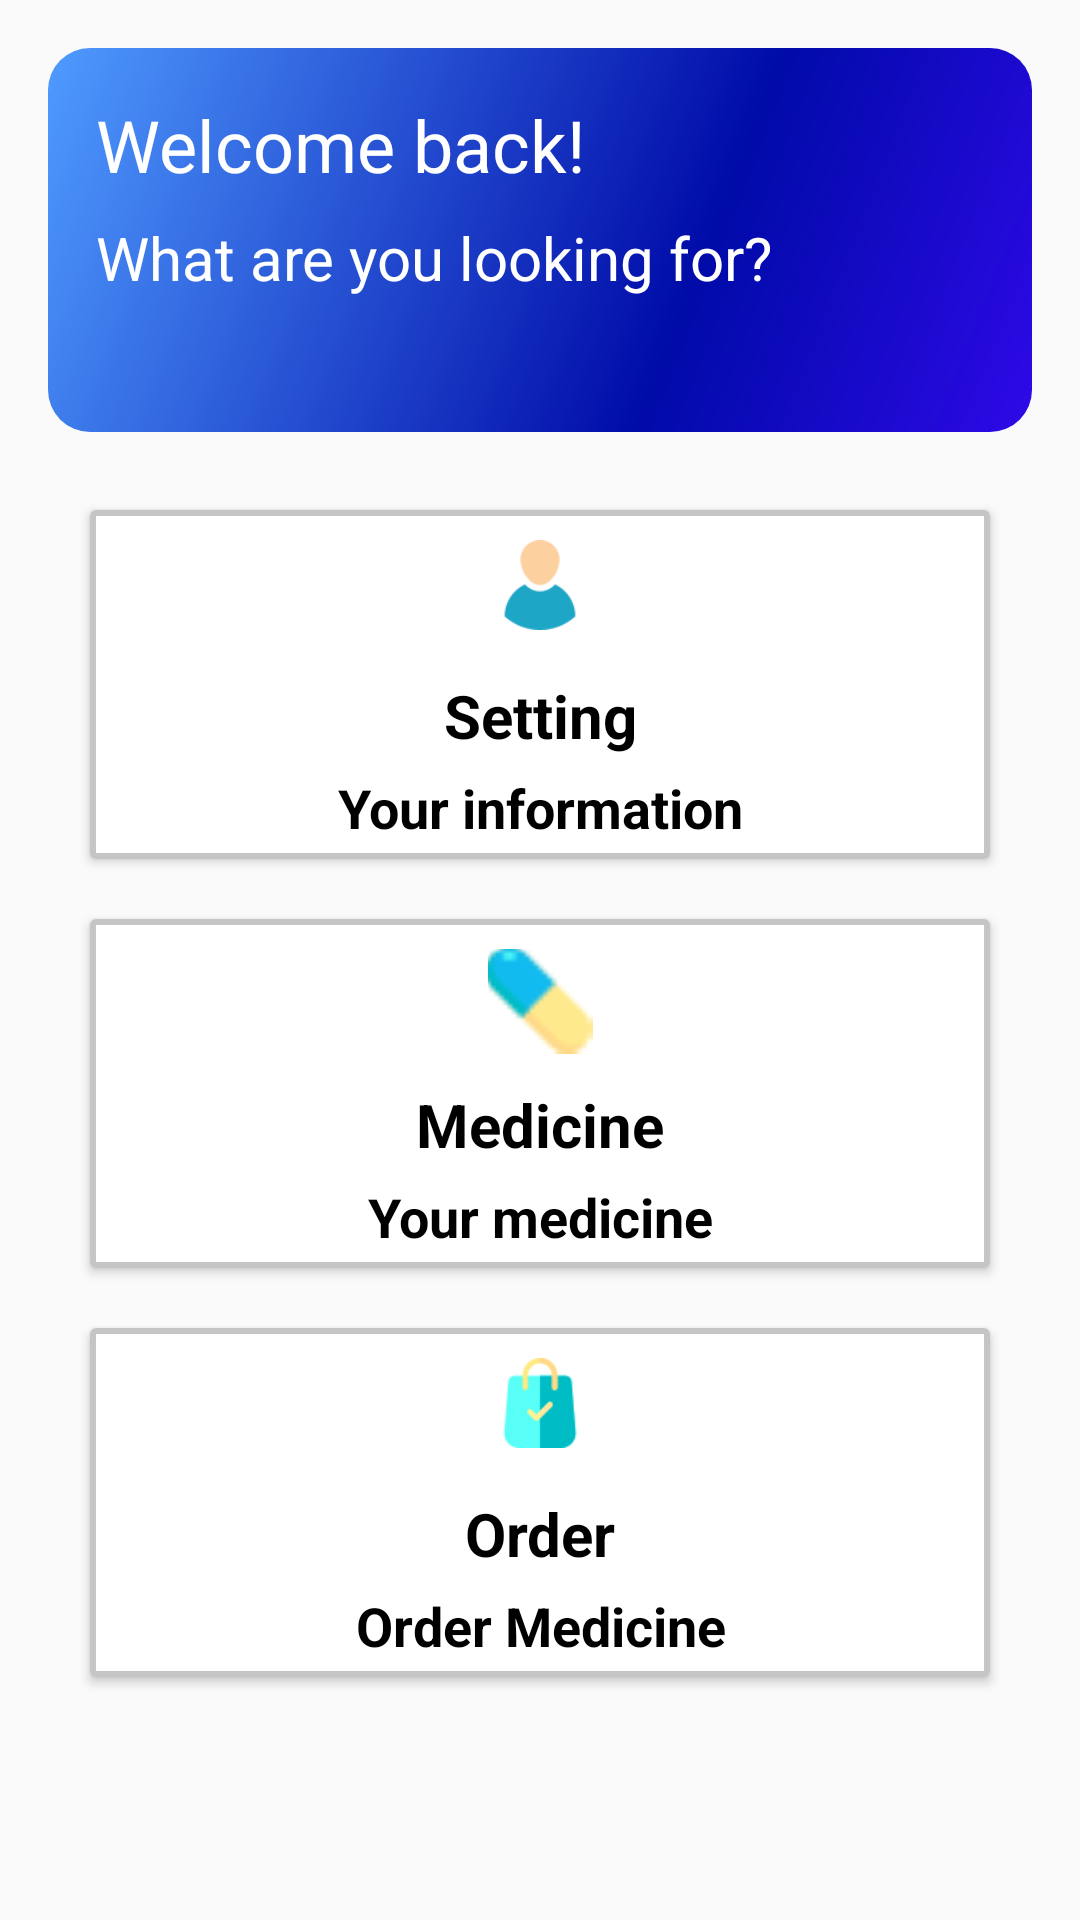

Where to tap for icons on this 1080×1920 app screen, as point (x, y):
pill: point (540, 1001)
shoppingbag: point (540, 1403)
user: point (540, 585)
